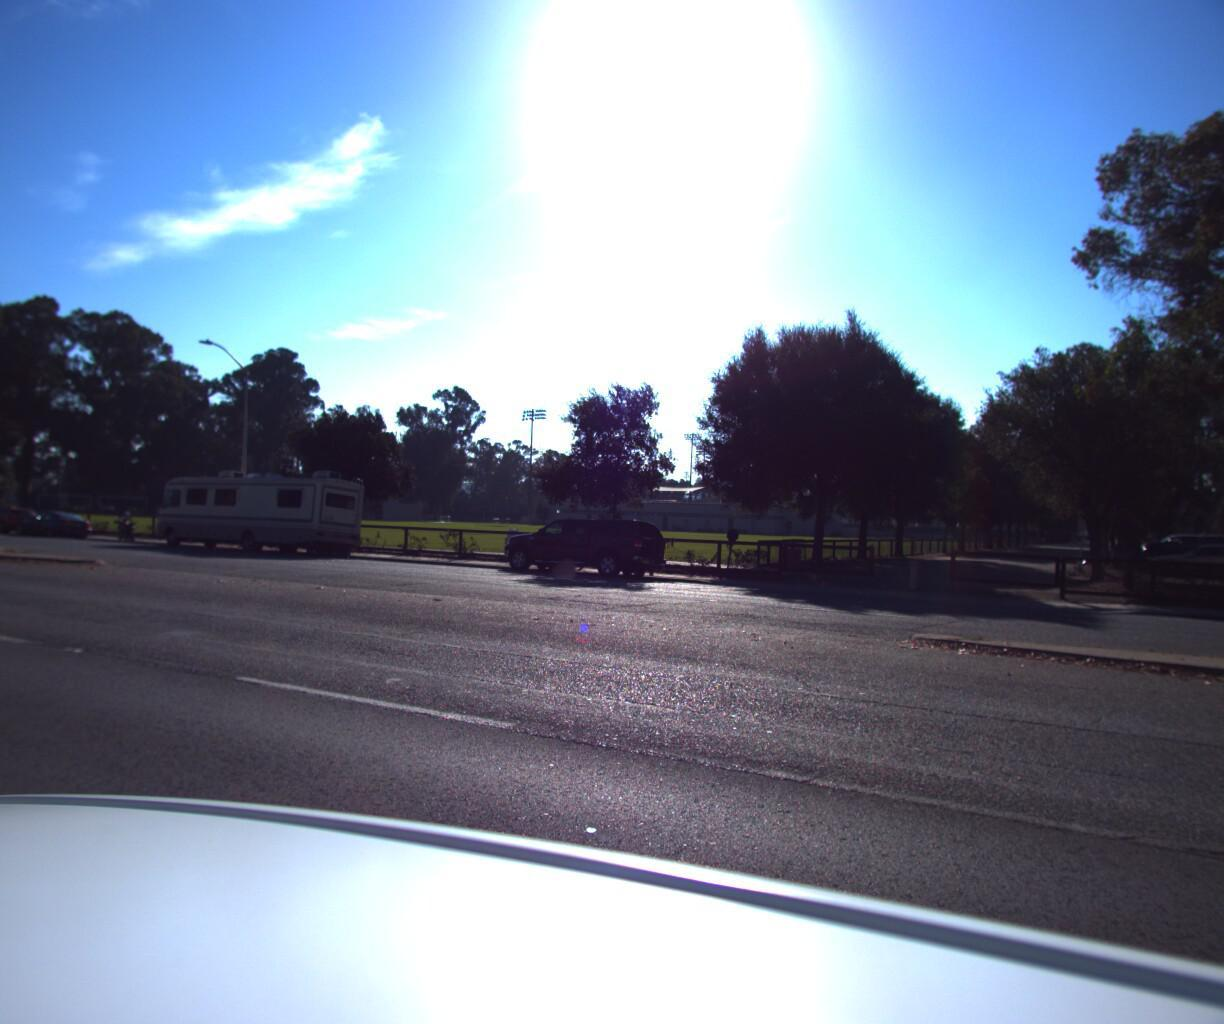car: (486, 517, 684, 588), (7, 517, 94, 547), (0, 509, 46, 543)
motorcycle: (108, 519, 140, 551)
other_vehicle: (145, 472, 368, 564)
